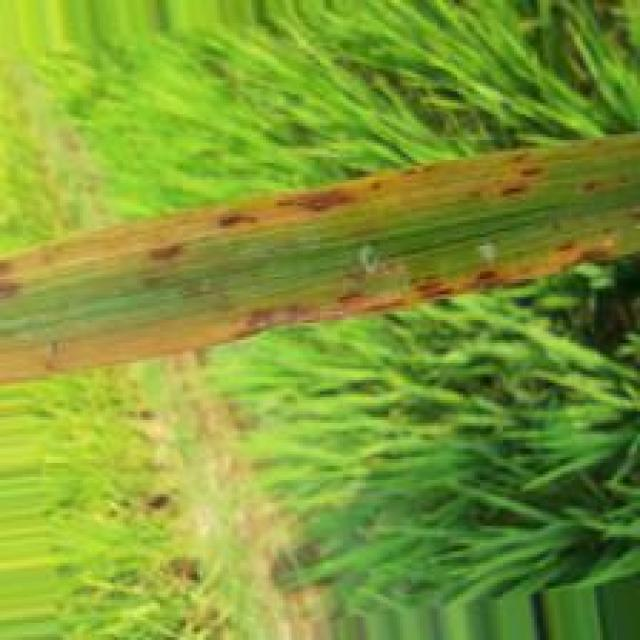Narrow_Brown_Leaf_Spot: (229, 230, 623, 344), (101, 167, 421, 262)
